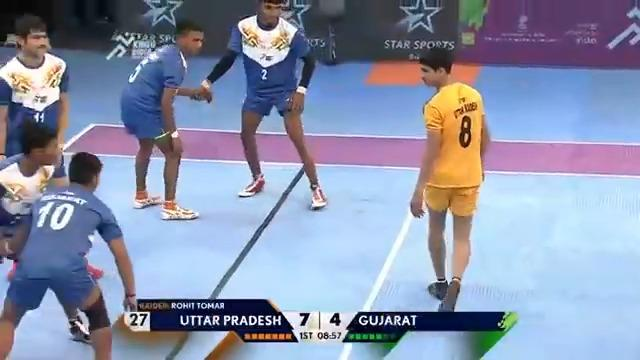Player: (197, 0, 329, 210), (0, 118, 93, 350), (119, 19, 212, 220), (0, 13, 71, 192), (8, 129, 62, 181)
Raider: (406, 41, 491, 311)
